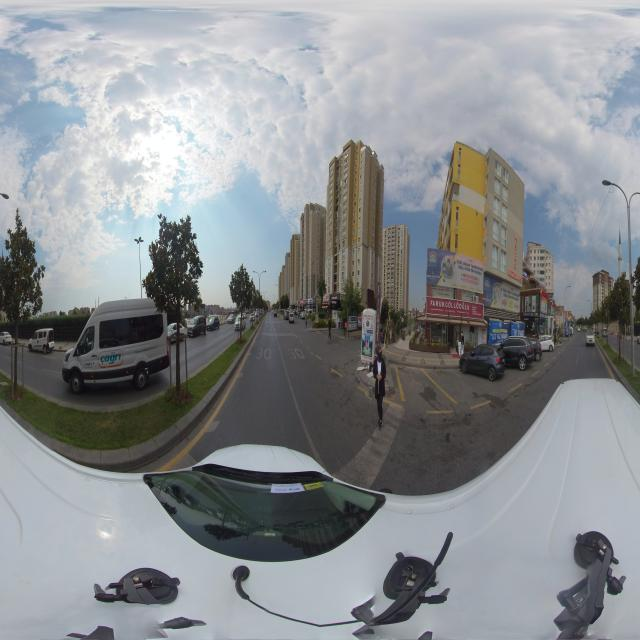SignStore: (426, 296, 484, 319), (523, 312, 539, 317), (540, 312, 548, 320), (332, 296, 337, 300), (552, 302, 556, 307), (300, 300, 305, 304), (313, 298, 316, 304), (305, 300, 308, 304), (309, 299, 312, 303), (554, 318, 556, 321)
